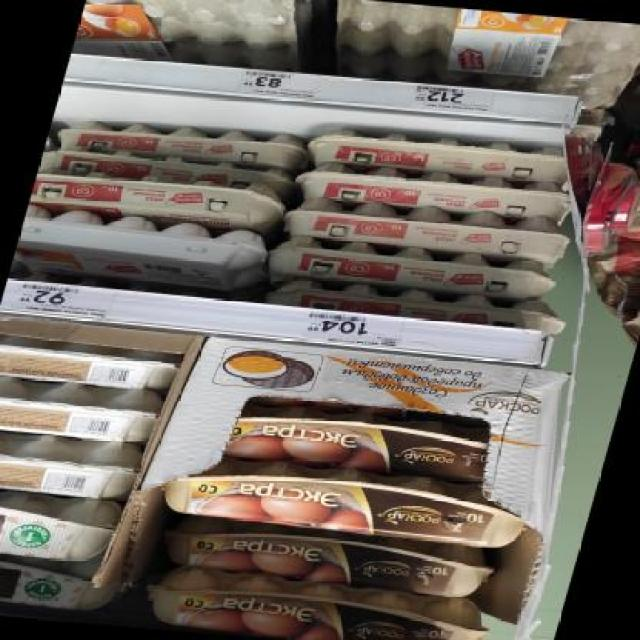Egg: (153, 452, 535, 551), (149, 515, 505, 600), (130, 566, 505, 640), (224, 396, 498, 482), (11, 205, 277, 292), (260, 235, 568, 303), (277, 193, 580, 262), (260, 276, 572, 341), (291, 159, 577, 221), (28, 164, 284, 233), (301, 124, 576, 184), (50, 118, 307, 170), (38, 146, 290, 194), (0, 374, 165, 446), (1, 334, 184, 394), (0, 425, 138, 500), (0, 544, 126, 614)
